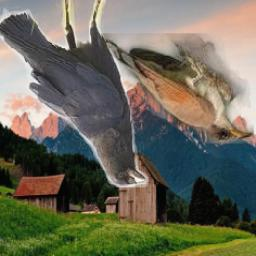Crow: (0, 0, 148, 189)
Cuckoo: (95, 34, 254, 145)
